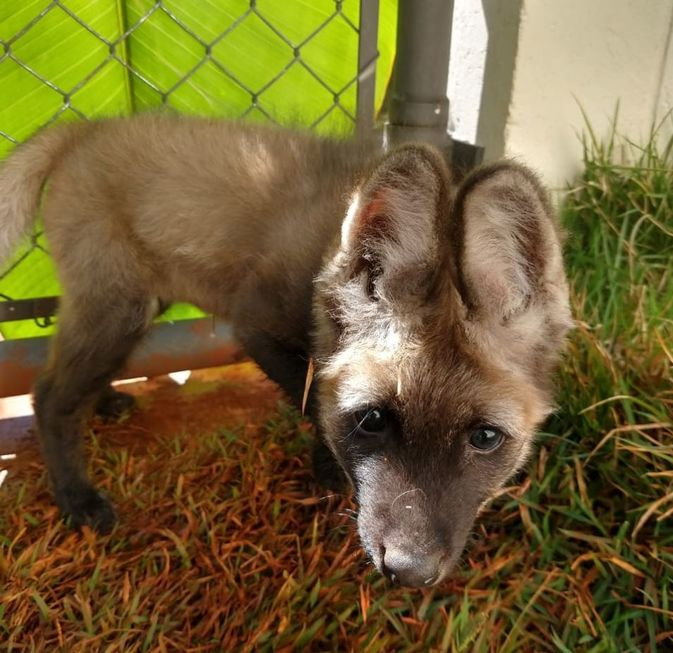LoboGuara: (23, 109, 580, 589)
